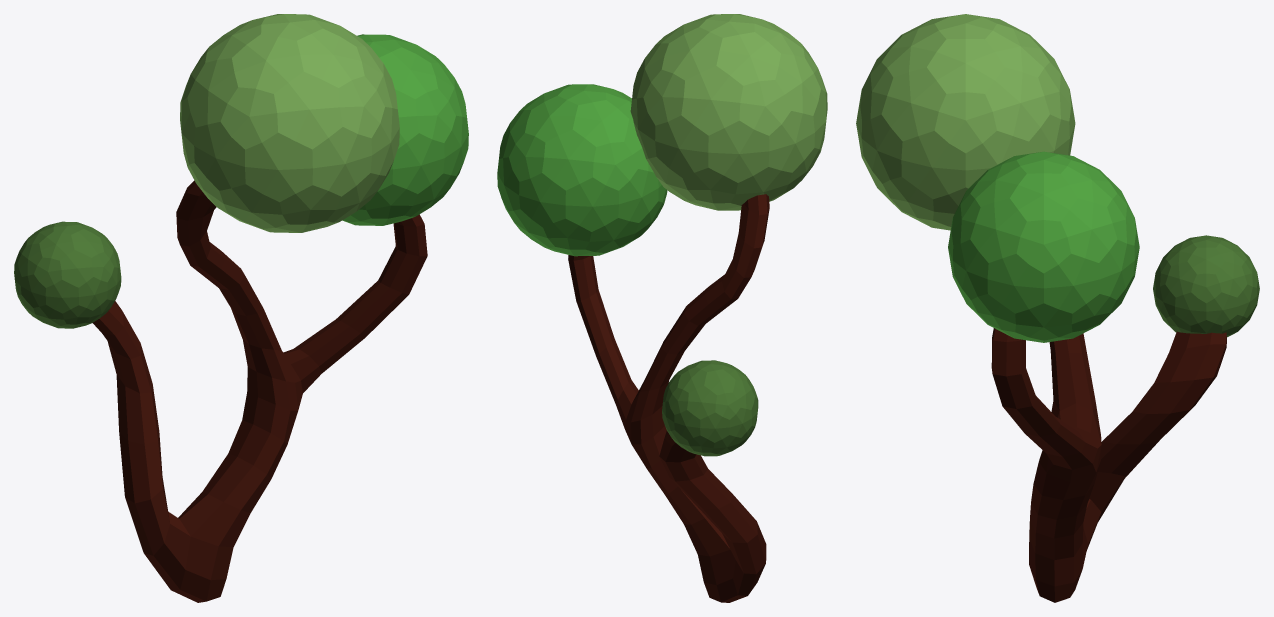
The model's file is tree2.fbx.
The picture shows the model from 3 angles, left to right: view 1: azimuth 30°, elevation 25°; view 2: azimuth 150°, elevation 25°; view 3: azimuth 270°, elevation 25°; orthographic projection. The views are drawn at different scales.
Parts seen in each view (by area): view 1: Tree2; view 2: Tree2; view 3: Tree2.
Boxes of the visible parts, x1=… form: Tree2: x1=14, y1=14, x2=468, y2=602; Tree2: x1=497, y1=14, x2=827, y2=602; Tree2: x1=856, y1=14, x2=1259, y2=602.
Size of the model in its own units: 358 by 584 by 358.
